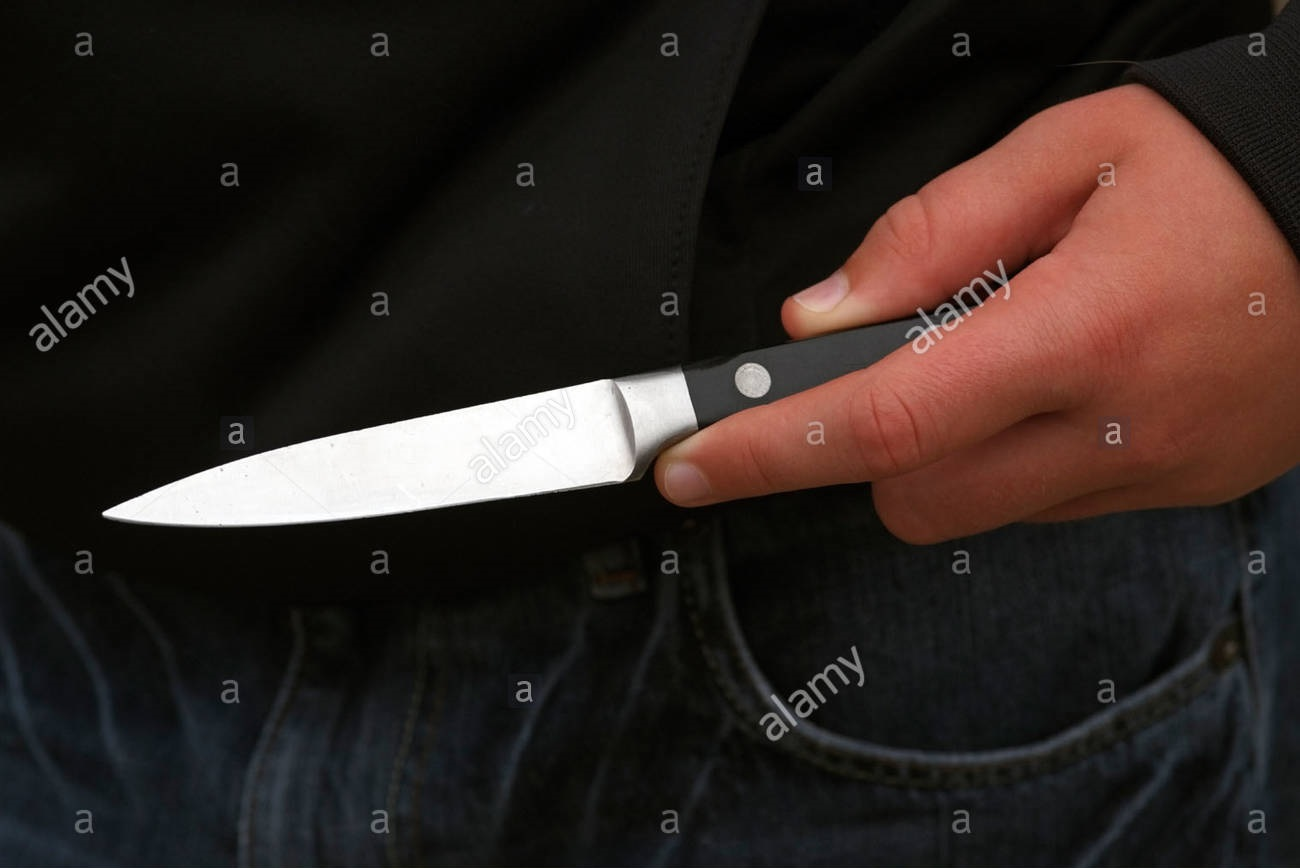knife: (88, 292, 943, 541)
